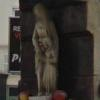Statue: (23, 3, 65, 94)
